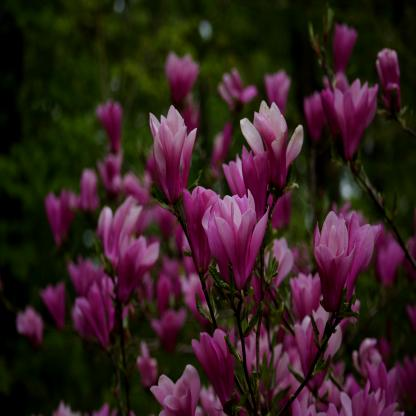Mokuren: (16, 22, 416, 416)
